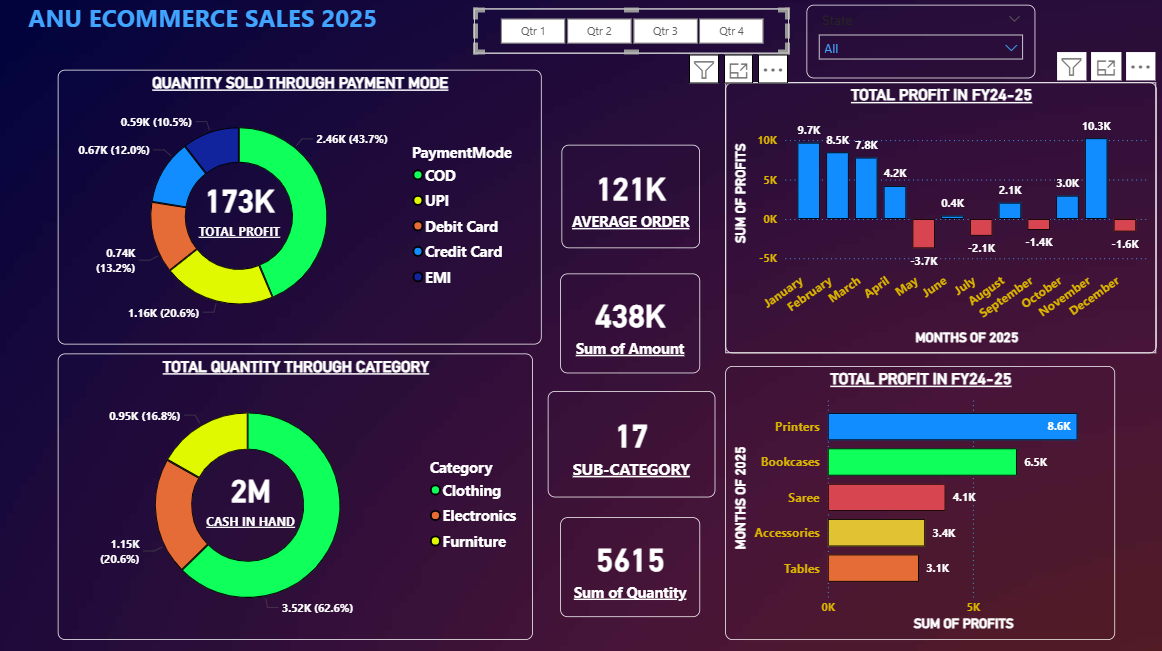

This screenshot's page, from the dashboard's own definition file:
{"tool":"powerbi","page":{"name":"Page 1","canvas":[1280,720],"ordinal":0},"visuals":[{"type":"textbox","box":[9.6,0,428.1,50.8],"z":0},{"type":"columnChart","title":"TOTAL PROFIT IN FY24-25","fields":{"Category":["ORDERDETAILS.Order Date.Variation.Date Hierarchy.Month"],"Y":["Sum(PRODUCTDETAILS.Profit)"]},"box":[797.3,94.7,473.4,297.8],"z":1000},{"type":"barChart","title":"TOTAL PROFIT IN FY24-25","fields":{"Y":["Sum(PRODUCTDETAILS.Profit)"],"Category":["PRODUCTDETAILS.Sub-Category"]},"box":[797.3,406.2,428.1,300.5],"z":2000},{"type":"donutChart","title":"TOTAL QUANTITY THROUGH CATEGORY","fields":{"Category":["PRODUCTDETAILS.Category"],"Y":["Sum(PRODUCTDETAILS.Quantity)"]},"box":[64.5,392.5,521.4,314.2],"z":3000},{"type":"card","fields":{"Values":["Sum(PRODUCTDETAILS.NETINHAND)"]},"box":[207.2,495.4,138.6,109.8],"z":4000},{"type":"donutChart","title":"QUANTITY SOLD THROUGH PAYMENT MODE","fields":{"Y":["Sum(PRODUCTDETAILS.Quantity)"],"Category":["PRODUCTDETAILS.PaymentMode"]},"box":[64.5,81,531,301.9],"z":5000},{"type":"card","fields":{"Values":["Sum(PRODUCTDETAILS.TOTALPROFIT)"]},"box":[194.9,177,138.6,109.8],"z":6000},{"type":"card","fields":{"Values":["Sum(PRODUCTDETAILS.Quantity)"]},"box":[616.1,572.2,153.7,109.8],"z":7000},{"type":"card","fields":{"Values":["Count(PRODUCTDETAILS.Sub-Category)"]},"box":[602.4,433.6,183.9,116.6],"z":8000},{"type":"card","fields":{"Values":["Sum(PRODUCTDETAILS.Amount)"]},"box":[616.1,304.6,153.7,109.8],"z":9000},{"type":"card","fields":{"Values":["Sum(PRODUCTDETAILS.AVERAGEORDERVALUE)"]},"box":[617.5,163.3,152.3,113.9],"z":10000},{"type":"slicer","fields":{"Values":["ORDERDETAILS.Order Date.Variation.Date Hierarchy.Quarter"]},"box":[521.4,13.7,345.8,49.4],"z":11000},{"type":"slicer","fields":{"Values":["ORDERDETAILS.State"]},"box":[886.5,9.6,251.1,81],"z":12000}]}

Visuals, with their boxes in screenshot pixels (x1, y1, x2, y2), scaled from the page's 1280x720 canvas onto the 1162x651 screenshot:
textbox: bbox=(9, 0, 397, 46)
"TOTAL PROFIT IN FY24-25" columnChart: bbox=(724, 86, 1154, 355)
"TOTAL PROFIT IN FY24-25" barChart: bbox=(724, 367, 1112, 639)
"TOTAL QUANTITY THROUGH CATEGORY" donutChart: bbox=(59, 355, 532, 639)
card - Sum(PRODUCTDETAILS.NETINHAND): bbox=(188, 448, 314, 547)
"QUANTITY SOLD THROUGH PAYMENT MODE" donutChart: bbox=(59, 73, 541, 346)
card - Sum(PRODUCTDETAILS.TOTALPROFIT): bbox=(177, 160, 303, 259)
card - Sum(PRODUCTDETAILS.Quantity): bbox=(559, 517, 699, 617)
card - Count(PRODUCTDETAILS.Sub-Category): bbox=(547, 392, 714, 497)
card - Sum(PRODUCTDETAILS.Amount): bbox=(559, 275, 699, 375)
card - Sum(PRODUCTDETAILS.AVERAGEORDERVALUE): bbox=(561, 148, 699, 251)
slicer - ORDERDETAILS.Order Date.Variation.Date Hierarchy.Quarter: bbox=(473, 12, 787, 57)
slicer - ORDERDETAILS.State: bbox=(805, 9, 1033, 82)
